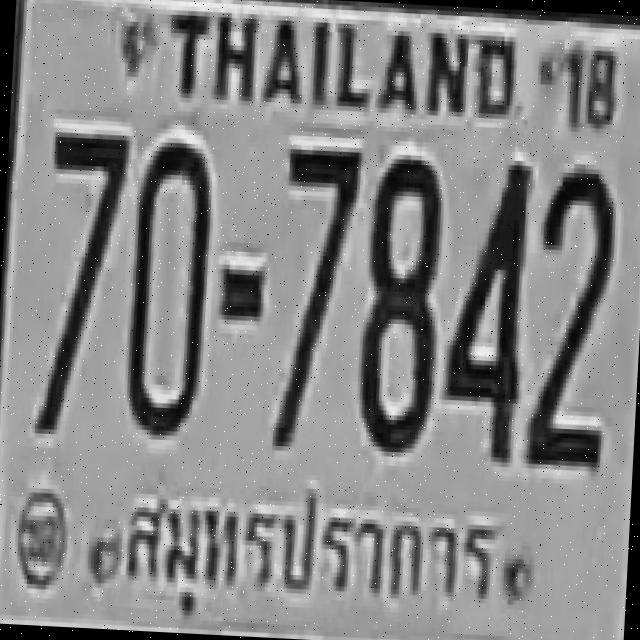0: (124, 137, 213, 437)
2: (525, 162, 617, 467)
4: (442, 156, 532, 460)
7: (36, 128, 128, 438), (270, 144, 360, 449), (42, 127, 130, 350)
8: (354, 151, 444, 451)
SamutPrakan: (104, 465, 504, 633)
